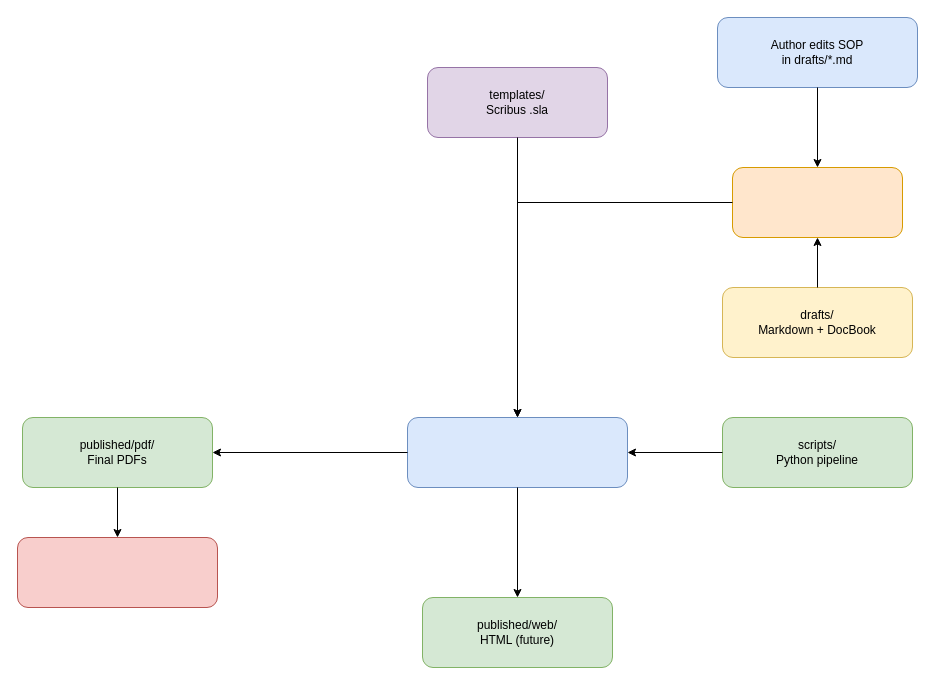
Image size: 935x685. Some labels were removed from this diagram. Here are the shapes that lost their labels. From the top down, the centre of each, then its label:
At (x=817, y=202): "Pandoc md → docbook.xml".
At (x=517, y=452): "Run script in Scribus".
At (x=117, y=572): "releases/SOP/ Release zips".
